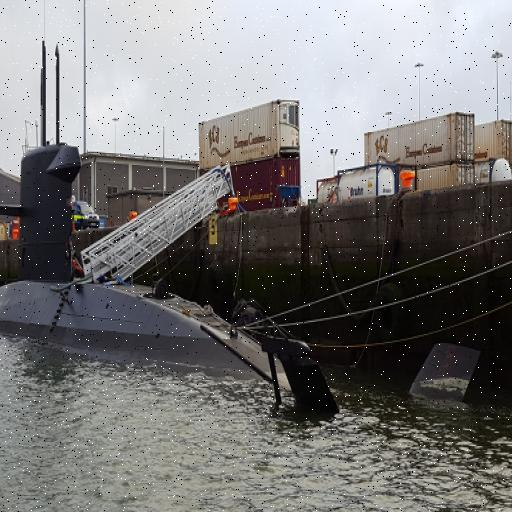submarine: (1, 8, 303, 377)
